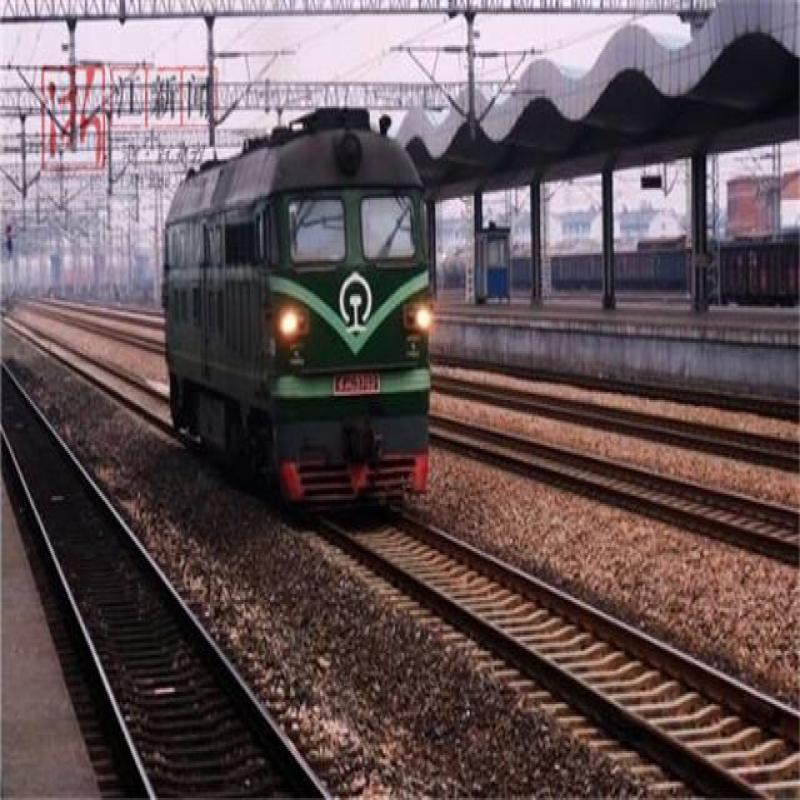train: (159, 152, 479, 515)
